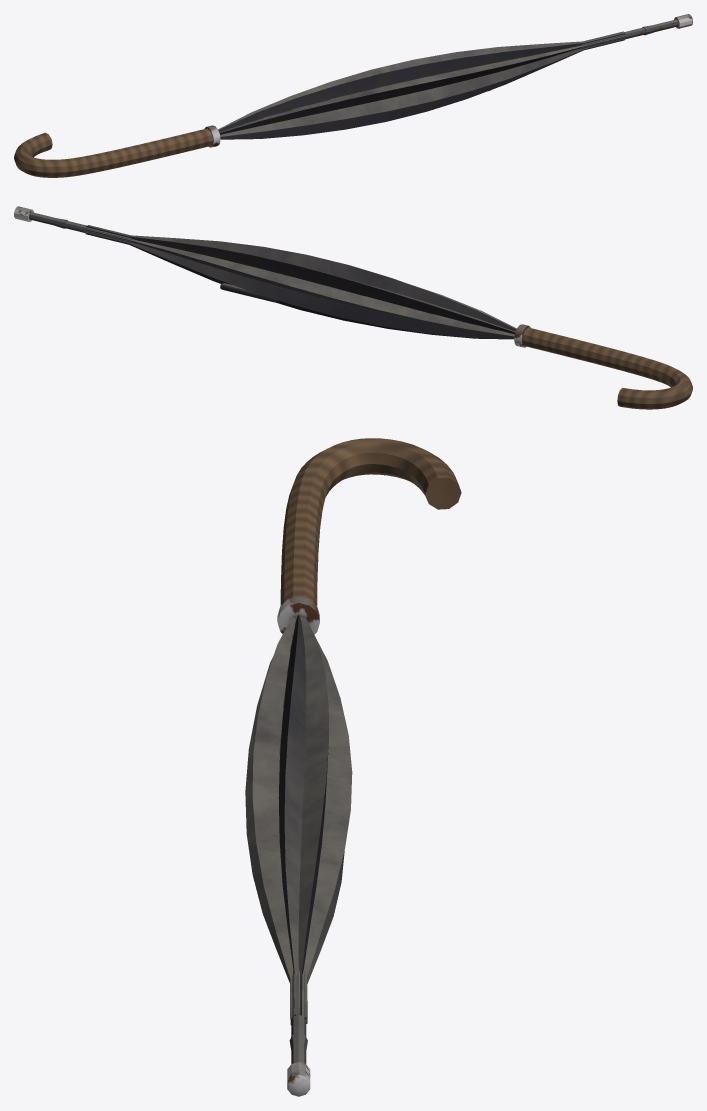
Rendered from SM_Umbrella.fbx.
3 renders of one model, top to bottom at view 1: azimuth 30°, elevation 25°; view 2: azimuth 150°, elevation 25°; view 3: azimuth 270°, elevation 25°, orthographic. The views are drawn at different scales.
Parts seen in each view (by area): view 1: SM_Umbrella; view 2: SM_Umbrella; view 3: SM_Umbrella.
Boxes of the visible parts, box(x1,y1,x2,y2) form: SM_Umbrella: box(14, 14, 692, 177); SM_Umbrella: box(14, 206, 692, 409); SM_Umbrella: box(245, 438, 461, 1096).
Bounding box in the file's own units: 0.9938 × 0.0721 × 0.142.
Materials: 1 (1 with a texture image).
